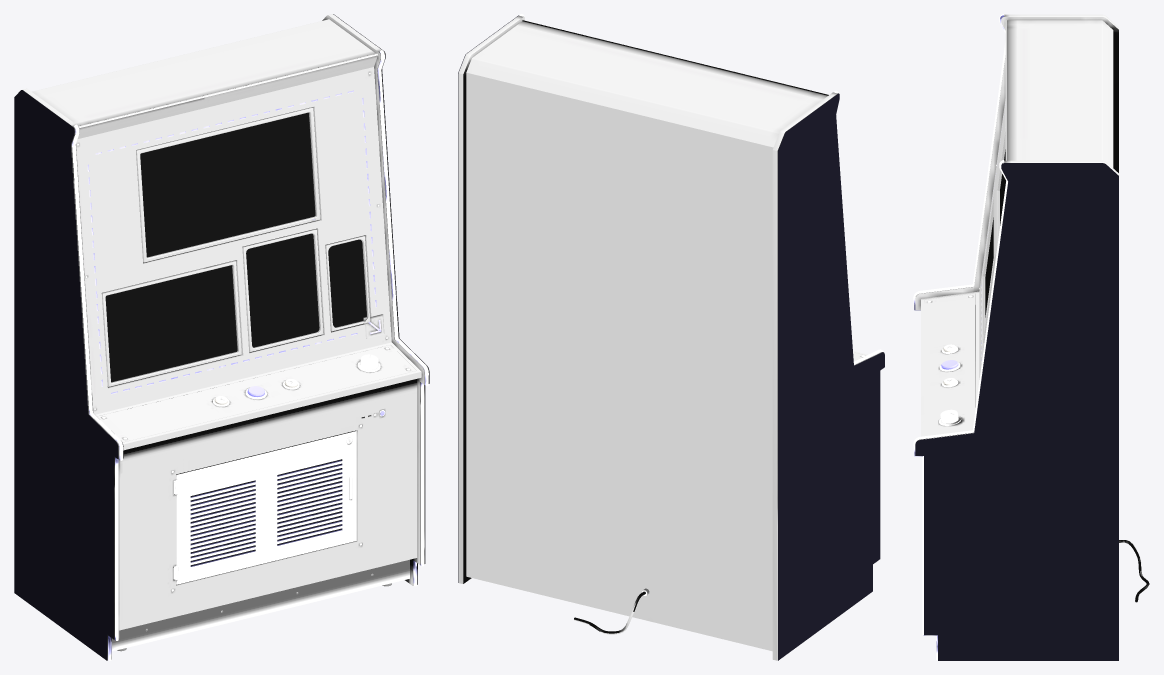
Rendered from mach-snapsize-v1.glb.
The picture shows the model from 3 angles, left to right: view 1: azimuth 30°, elevation 25°; view 2: azimuth 150°, elevation 25°; view 3: azimuth 270°, elevation 25°; orthographic projection. The views are drawn at different scales.
Visible parts, largest first — view 1: body, side_art_l, screen, glass, controls, trim, metal; view 2: body, side_art_l; view 3: side_art_r, body, trim, controls, glass, screen.
Boxes of the visible parts, box(x1,y1,x2,y2) form: body: box(22, 14, 429, 660); side_art_l: box(14, 90, 118, 660); screen: box(105, 112, 366, 381); glass: box(106, 113, 367, 382); controls: box(101, 107, 384, 441); trim: box(72, 50, 428, 660); metal: box(77, 72, 410, 651); body: box(458, 16, 882, 660); side_art_l: box(778, 93, 884, 660); side_art_r: box(915, 163, 1118, 660); body: box(915, 14, 1118, 443); trim: box(913, 14, 1007, 660); controls: box(951, 128, 1005, 414); glass: box(983, 143, 1005, 346); screen: box(985, 149, 1005, 317).
Size of the model in its own units: 1.24 by 1.95 by 0.8354.
20 materials, 7 textured.
